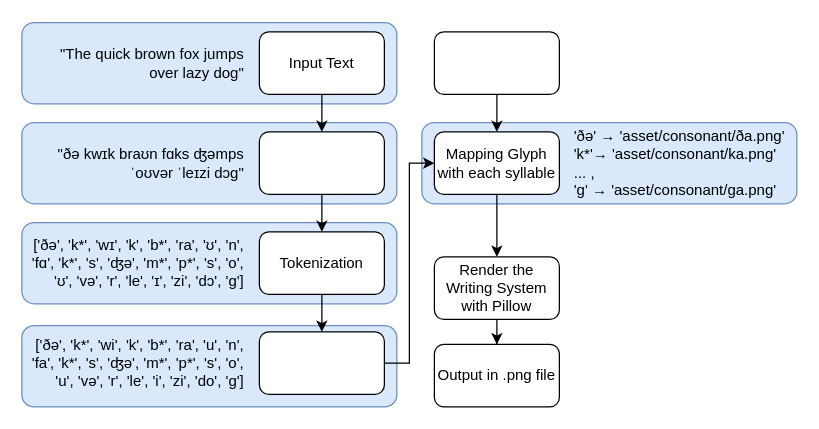
Image size: 819x429. Some labels were removed from this diagram. Here are the shapes that lost their labels. From the top down, the box of each, then its label:
(433, 31, 559, 94): Glyph PNG file
(258, 131, 384, 194): Convert to IPA
(258, 331, 384, 394): Token Standarization
